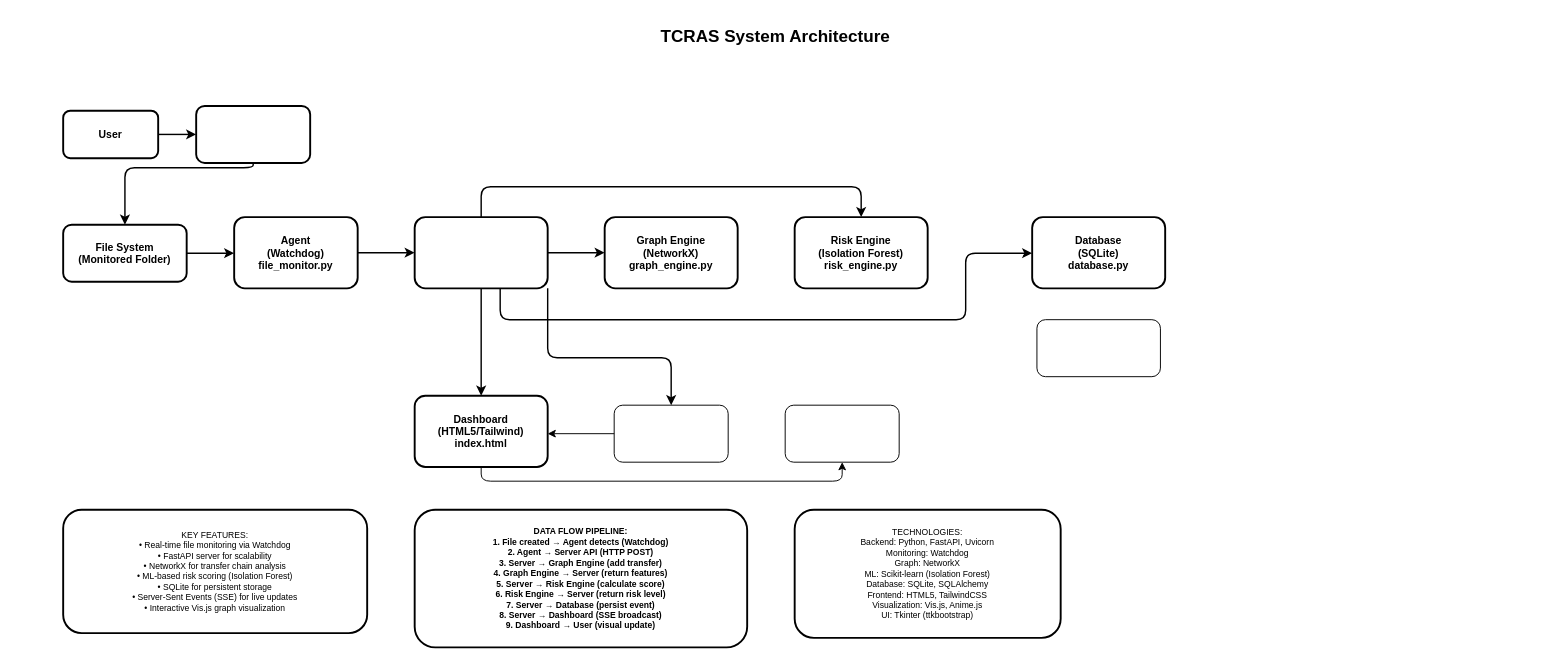
Some shapes in this 1551 by 663 pixel diagram are drawn without their labels. Each missing label, with the centre of its shape:
"EventLog Table (File transfers, Risk scores)" goes at pixel 1098 348.
"Server API (FastAPI) main.py" goes at pixel 480 252.
"SSE Stream Real-time Updates" goes at pixel 670 433.
"Transfer App (Tkinter)" goes at pixel 253 133.
"Vis.js Graph Anime.js" goes at pixel 841 433.
